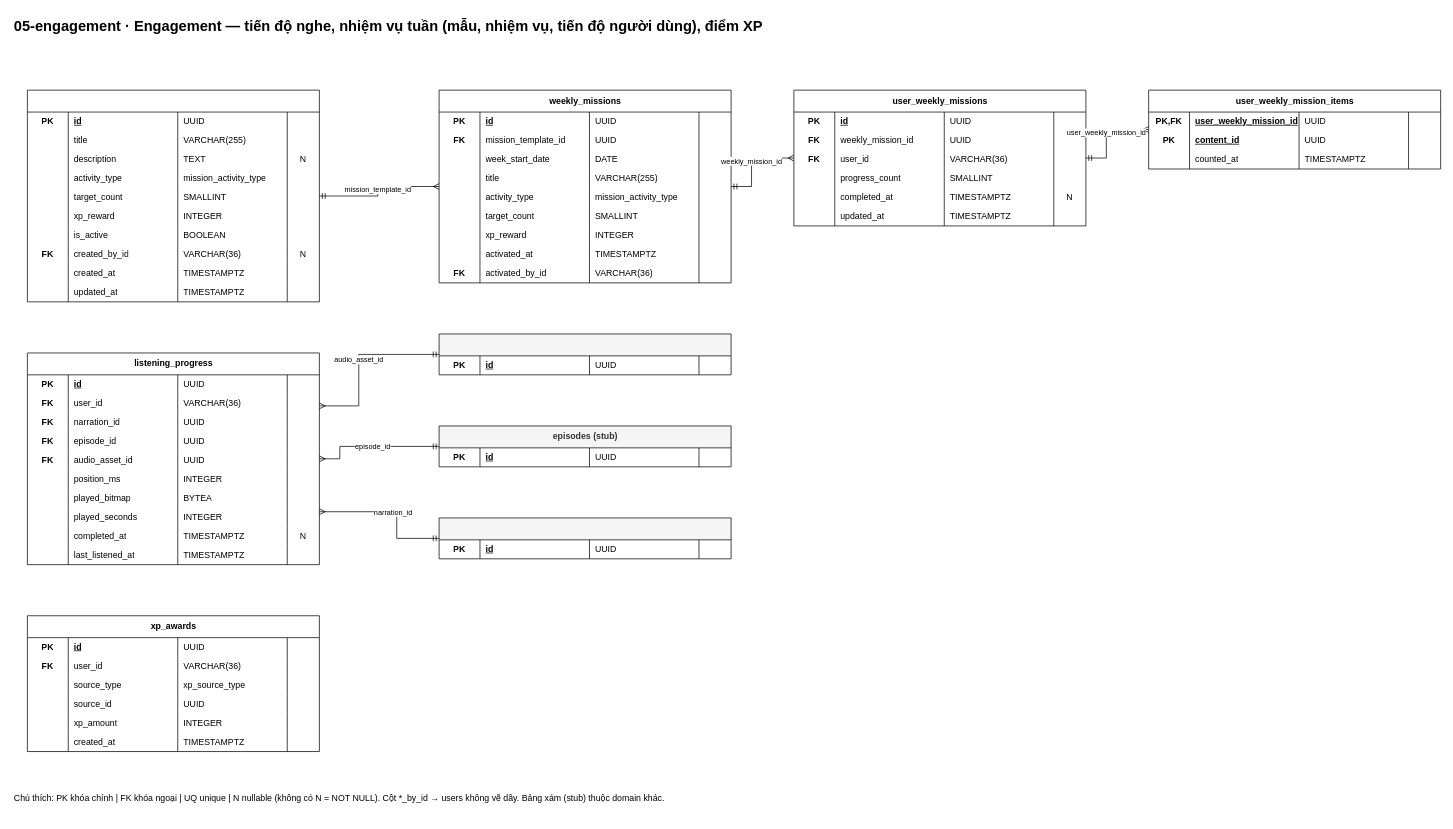
The diagram is 1453 pixels wide and 829 high, and some of its shapes have lost their labels. The box of each missing label's shape, as (x1, y1, x2, y2) in pixels:
episode_narrations (stub): (438, 517, 731, 559)
media_assets (stub): (438, 333, 731, 375)
mission_templates: (27, 89, 319, 302)
